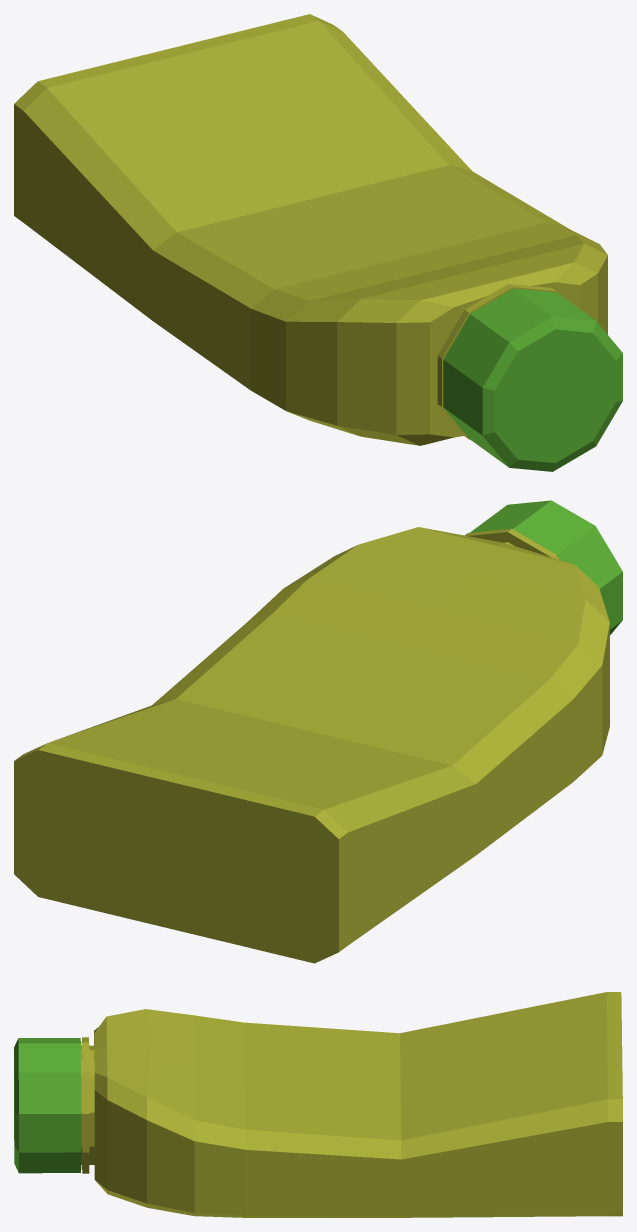
File: TalcPowder.fbx
3 views of the same model, one above another, from view 1: azimuth 30°, elevation 25°; view 2: azimuth 150°, elevation 25°; view 3: azimuth 270°, elevation 25° (orthographic). The views are drawn at different scales.
Parts seen in each view (by area): view 1: TalcPowder_Shouldered; view 2: TalcPowder_Shouldered; view 3: TalcPowder_Shouldered.
Part boxes in pixels (x1,y1,x2,y2): TalcPowder_Shouldered: (14,14,622,471); TalcPowder_Shouldered: (14,500,622,963); TalcPowder_Shouldered: (14,992,622,1217).
Bounding box in the file's own units: 0.1086 × 0.2205 × 0.0503.
